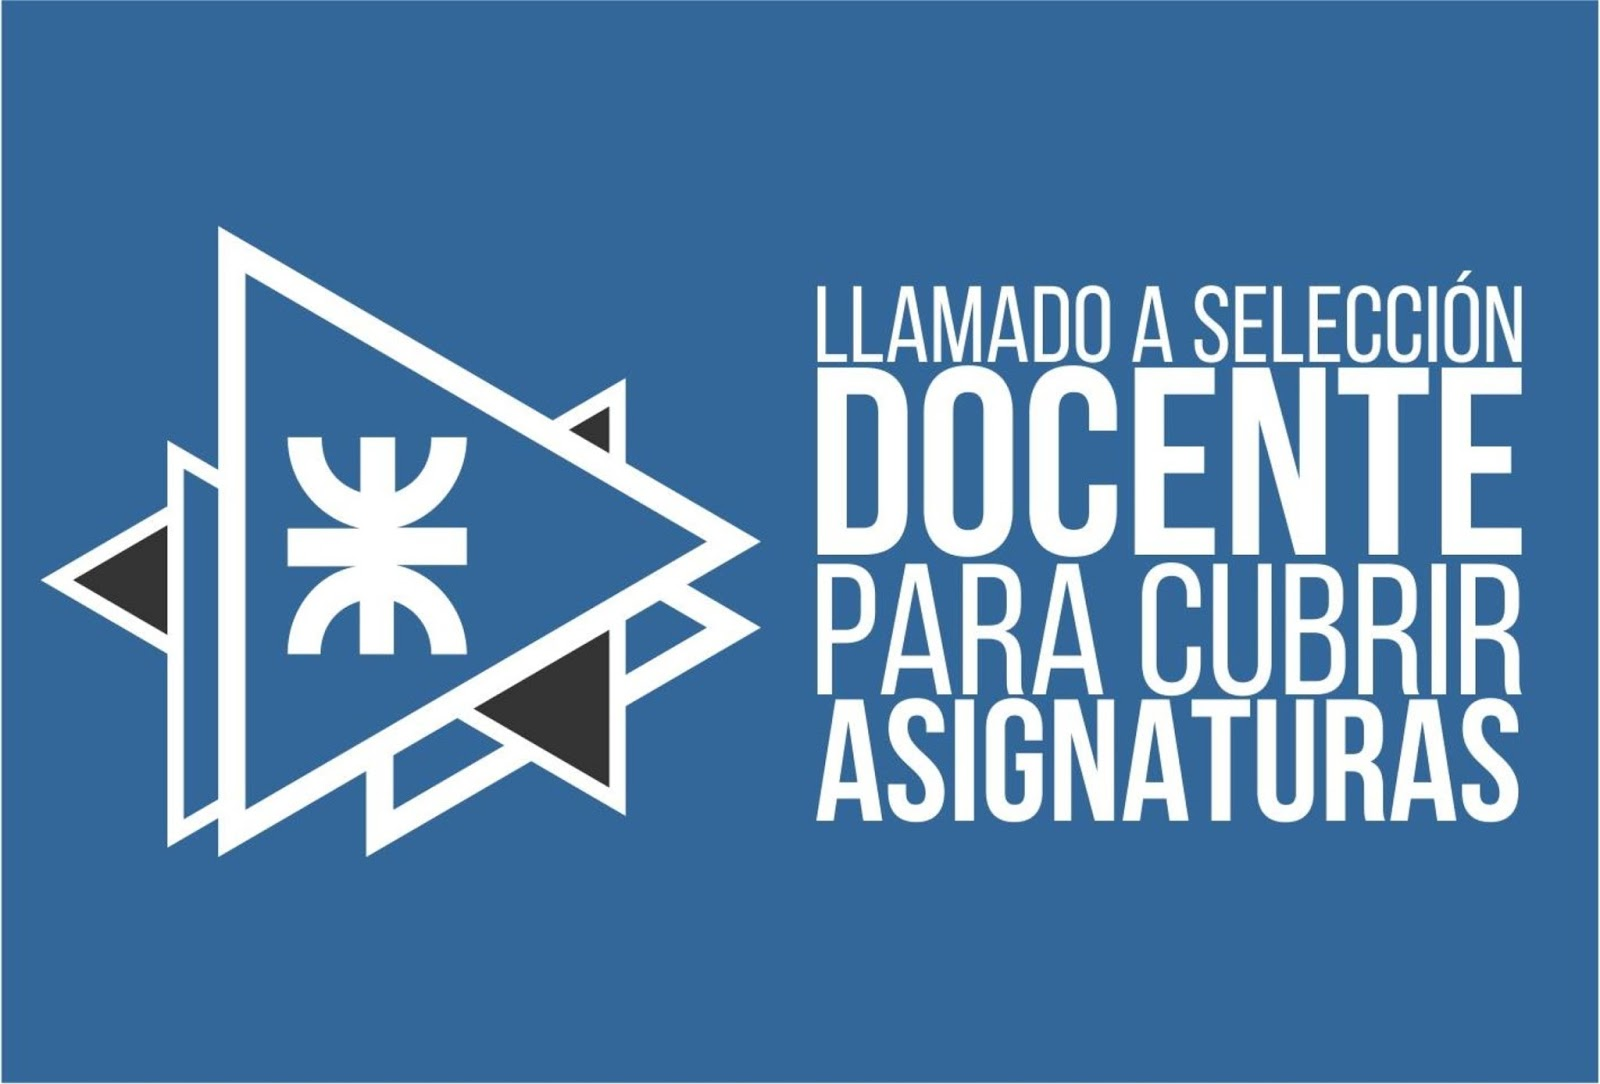utn: (273, 422, 483, 664)
